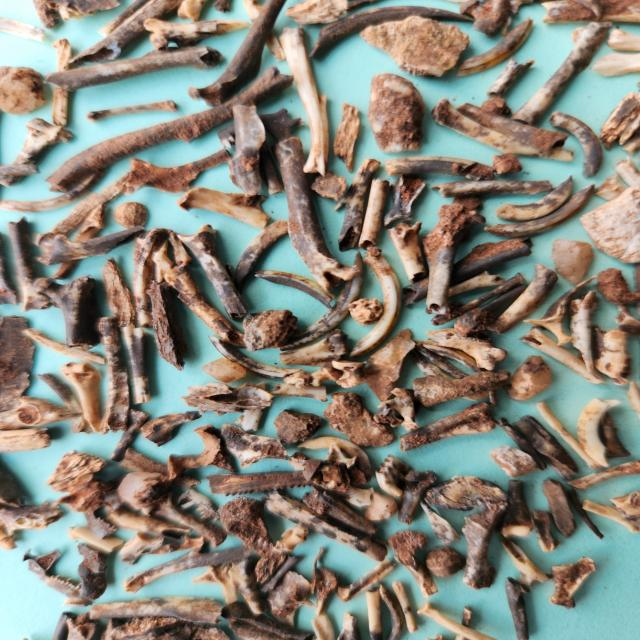fossil: (42, 65, 298, 196), (270, 135, 367, 297), (507, 20, 615, 128), (184, 0, 288, 108), (256, 486, 392, 565), (0, 311, 85, 431), (305, 4, 478, 62), (396, 236, 535, 308), (273, 246, 365, 354), (428, 96, 573, 164), (38, 44, 227, 96), (36, 169, 139, 251), (277, 24, 331, 179), (418, 200, 488, 318), (63, 0, 186, 67), (164, 261, 253, 349), (352, 15, 472, 80), (119, 542, 255, 596), (176, 222, 248, 323), (347, 242, 406, 356), (480, 182, 598, 238), (454, 101, 570, 156), (362, 66, 432, 156), (517, 325, 612, 390), (425, 270, 529, 328), (124, 146, 234, 200), (577, 179, 640, 272), (524, 271, 598, 349), (415, 337, 498, 406), (33, 271, 101, 355), (396, 397, 496, 454), (329, 153, 384, 254), (5, 214, 60, 314), (488, 261, 561, 336), (0, 117, 78, 187), (454, 13, 536, 78), (318, 388, 398, 453), (30, 223, 148, 267), (530, 396, 598, 471), (0, 168, 107, 215), (160, 423, 246, 481), (509, 413, 580, 483), (95, 312, 135, 436), (50, 199, 110, 281), (460, 495, 510, 593), (89, 592, 225, 628), (226, 100, 271, 208), (19, 547, 96, 609), (206, 333, 304, 381), (228, 218, 291, 292), (146, 493, 229, 549), (172, 186, 273, 232), (452, 280, 532, 338), (360, 326, 418, 406), (214, 494, 282, 562), (44, 449, 114, 515), (405, 348, 490, 402), (144, 277, 190, 375), (410, 367, 513, 410), (297, 488, 382, 538), (546, 106, 605, 178), (384, 527, 442, 600), (425, 324, 513, 372), (494, 173, 578, 223), (217, 419, 299, 470), (250, 520, 313, 586), (295, 433, 375, 484), (142, 15, 252, 52), (178, 380, 282, 419), (216, 106, 308, 150), (115, 446, 204, 491), (128, 226, 166, 329), (251, 266, 337, 311), (418, 472, 512, 513), (58, 356, 106, 436), (101, 612, 238, 640), (0, 499, 69, 554), (218, 599, 312, 639), (378, 152, 498, 183), (264, 568, 324, 630), (574, 394, 622, 470), (20, 327, 108, 368), (412, 599, 500, 640), (34, 369, 87, 437), (498, 530, 557, 590), (493, 413, 550, 474), (202, 467, 321, 496), (273, 328, 355, 370), (413, 341, 484, 388), (588, 321, 637, 389), (377, 169, 432, 229), (428, 176, 553, 202), (335, 554, 400, 604), (545, 554, 600, 613), (116, 323, 155, 406), (98, 252, 139, 330), (100, 506, 193, 540), (46, 36, 80, 128), (140, 404, 207, 450), (241, 0, 288, 65), (385, 219, 432, 284), (566, 288, 599, 380), (457, 0, 535, 38), (367, 381, 420, 436), (392, 466, 440, 526), (563, 486, 612, 544), (0, 63, 51, 118), (238, 304, 296, 352), (540, 473, 581, 540), (501, 575, 543, 640), (283, 0, 384, 27), (597, 90, 640, 153), (228, 550, 269, 616), (356, 175, 391, 252), (96, 0, 166, 38), (85, 98, 180, 126), (481, 54, 537, 101), (539, 0, 640, 26), (563, 459, 640, 493), (187, 558, 241, 606), (116, 468, 176, 511), (331, 100, 364, 176), (506, 354, 556, 403), (498, 475, 535, 541), (108, 406, 150, 464), (271, 406, 329, 448), (577, 497, 640, 535), (548, 233, 594, 285), (416, 500, 464, 549), (298, 457, 358, 495), (73, 542, 109, 604), (482, 442, 542, 478), (592, 408, 634, 459), (375, 577, 409, 640), (112, 528, 168, 566), (373, 452, 419, 498), (390, 578, 426, 636), (593, 264, 640, 308), (130, 533, 210, 558), (259, 552, 306, 594), (436, 270, 505, 298), (66, 524, 129, 554), (0, 422, 58, 454), (423, 540, 469, 580), (175, 487, 224, 524), (0, 230, 23, 308), (226, 615, 296, 640), (312, 564, 340, 626), (325, 477, 379, 509), (107, 197, 155, 231), (0, 15, 52, 46), (586, 50, 640, 79), (360, 487, 400, 526), (267, 382, 334, 405), (362, 582, 388, 640), (530, 506, 560, 554), (51, 0, 122, 20), (165, 230, 198, 273), (591, 172, 630, 208), (331, 358, 374, 390), (198, 356, 250, 382), (305, 170, 347, 202), (0, 465, 29, 510), (81, 505, 119, 539), (147, 237, 175, 283), (41, 607, 80, 640), (344, 297, 388, 326), (441, 186, 491, 211), (63, 609, 103, 640), (334, 606, 370, 640), (232, 402, 269, 435), (316, 440, 358, 469), (368, 402, 410, 430), (304, 360, 342, 390), (483, 150, 527, 175), (308, 542, 328, 596), (612, 154, 640, 192), (612, 301, 640, 338), (608, 488, 640, 520), (30, 0, 62, 31), (601, 28, 640, 53), (452, 603, 476, 640), (174, 0, 209, 24), (476, 95, 513, 117), (308, 613, 338, 640), (0, 160, 42, 179), (278, 368, 316, 388), (623, 376, 640, 418), (287, 446, 314, 472), (616, 131, 640, 157), (209, 0, 235, 15)
